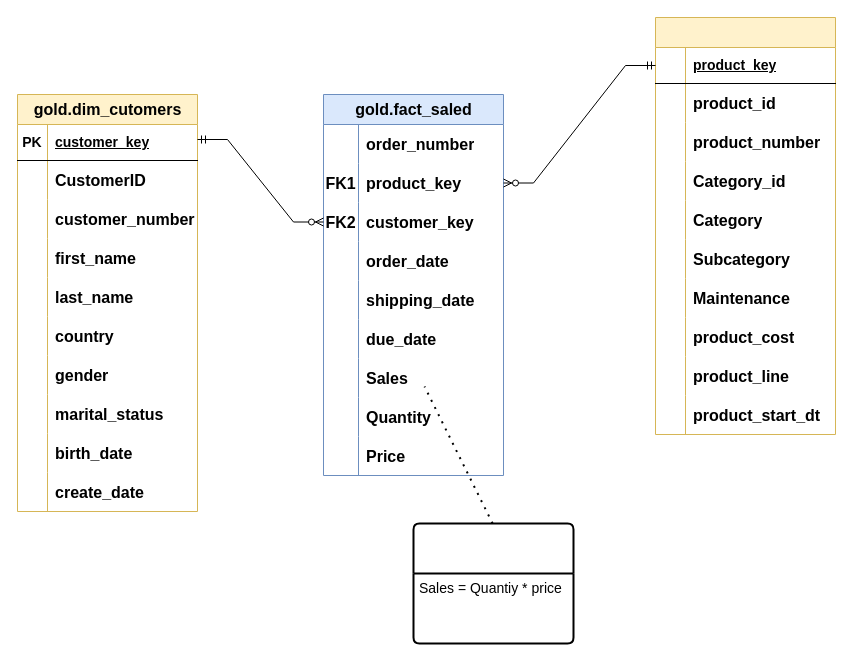
This 853x662 diagram has some shape labels left out. The box of each missing label's shape, as (x1, y1, x2, y2) in pixels:
gold.dim_products: (654, 16, 836, 434)
Sales Calculation: (412, 522, 574, 644)
